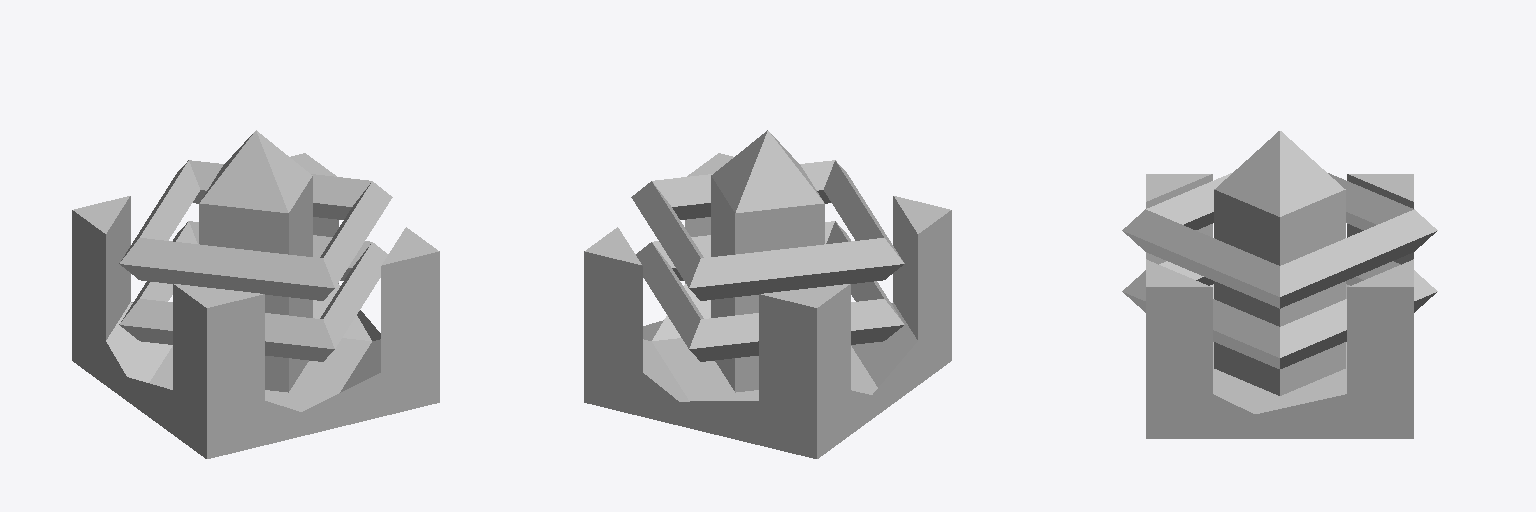
Rendered from new_node_source.obj.
3 views of the same model, side by side, from view 1: azimuth 30°, elevation 25°; view 2: azimuth 150°, elevation 25°; view 3: azimuth 270°, elevation 25° (orthographic).
Parts seen in each view (by area): view 1: Torus002_Untitled.001, Sphere001_Untitled; view 2: Torus002_Untitled.001, Sphere001_Untitled; view 3: Torus002_Untitled.001, Sphere001_Untitled.
Boxes of the visible parts, box(x1,y1,x2,y2) form: Torus002_Untitled.001: box(72, 153, 439, 458); Sphere001_Untitled: box(199, 130, 312, 392); Torus002_Untitled.001: box(584, 153, 951, 458); Sphere001_Untitled: box(711, 130, 824, 392); Torus002_Untitled.001: box(1122, 173, 1437, 438); Sphere001_Untitled: box(1214, 131, 1345, 395).
Bounding box in the file's own units: 2.35 × 2.07 × 2.35.